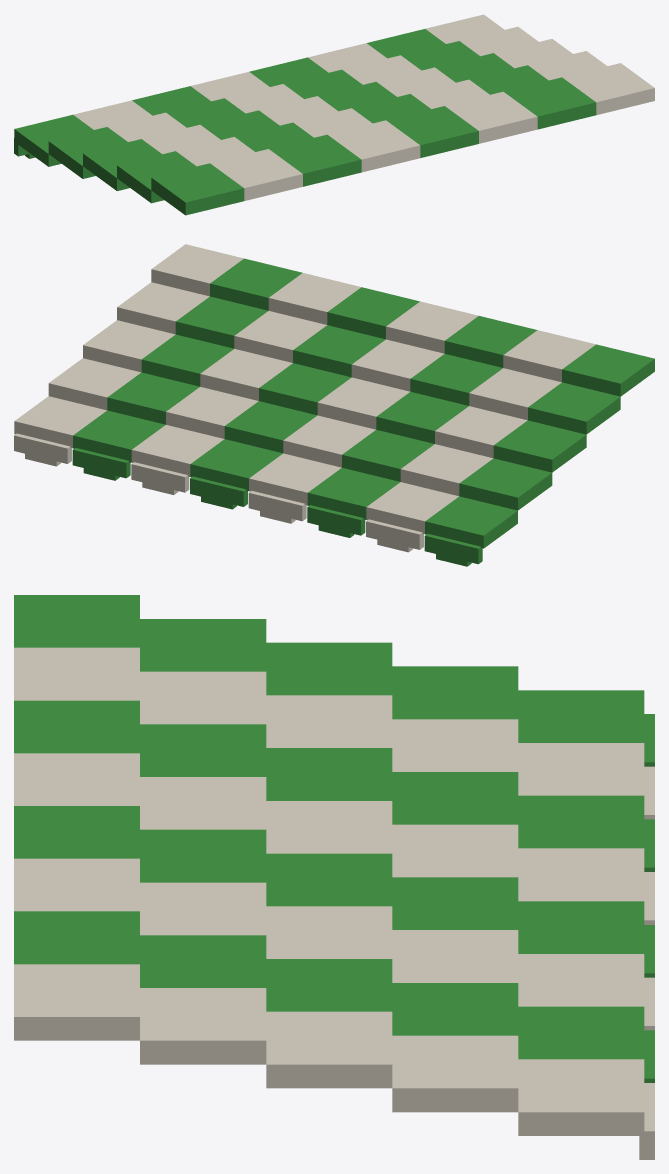
File: cp-awning-green.glb
The picture shows the model from 3 angles, top to bottom: view 1: azimuth 30°, elevation 25°; view 2: azimuth 150°, elevation 25°; view 3: azimuth 270°, elevation 25°; orthographic projection. The views are drawn at different scales.
Parts seen in each view (by area): view 1: box-prop; view 2: box-prop; view 3: box-prop.
Boxes of the visible parts, box(x1,y1,x2,y2) form: box-prop: box(14, 14, 654, 215); box-prop: box(14, 244, 654, 566); box-prop: box(14, 595, 654, 1159).
Size of the model in its own units: 7.6 by 1.3 by 4.88.
